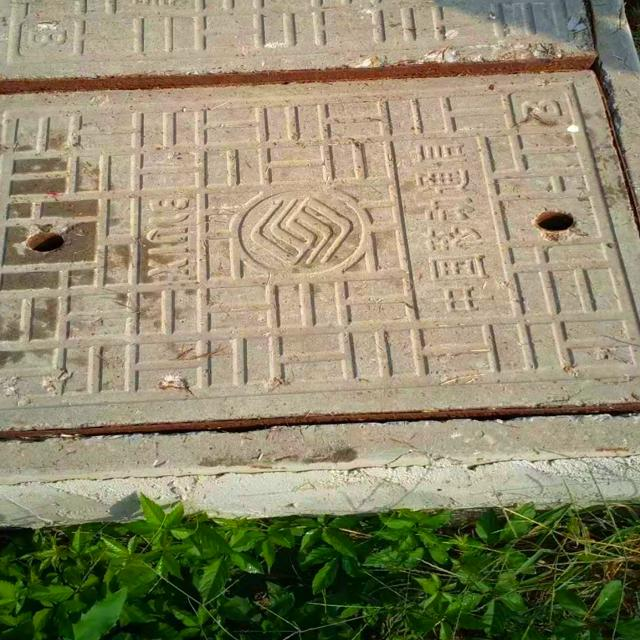uncovered: (0, 0, 640, 520)
